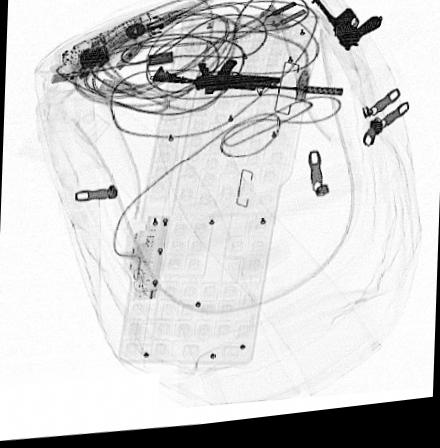Gun: (151, 64, 344, 104), (312, 5, 382, 60)
